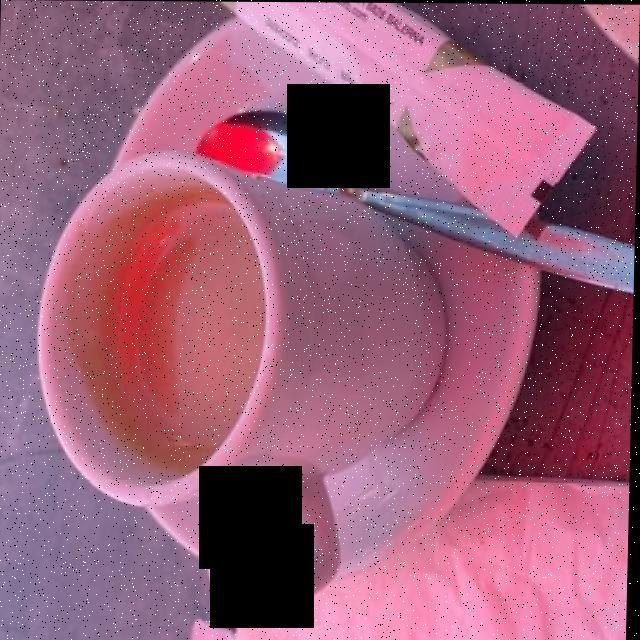coffee: (100, 208, 264, 462)
